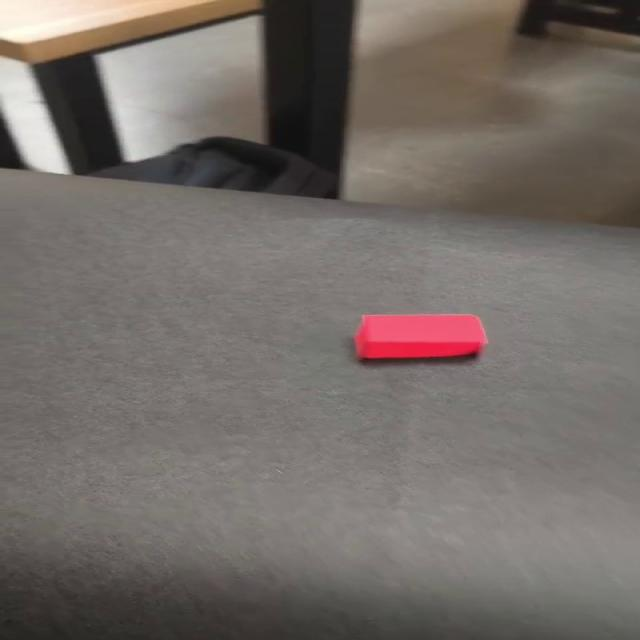red block: (352, 313, 488, 360)
